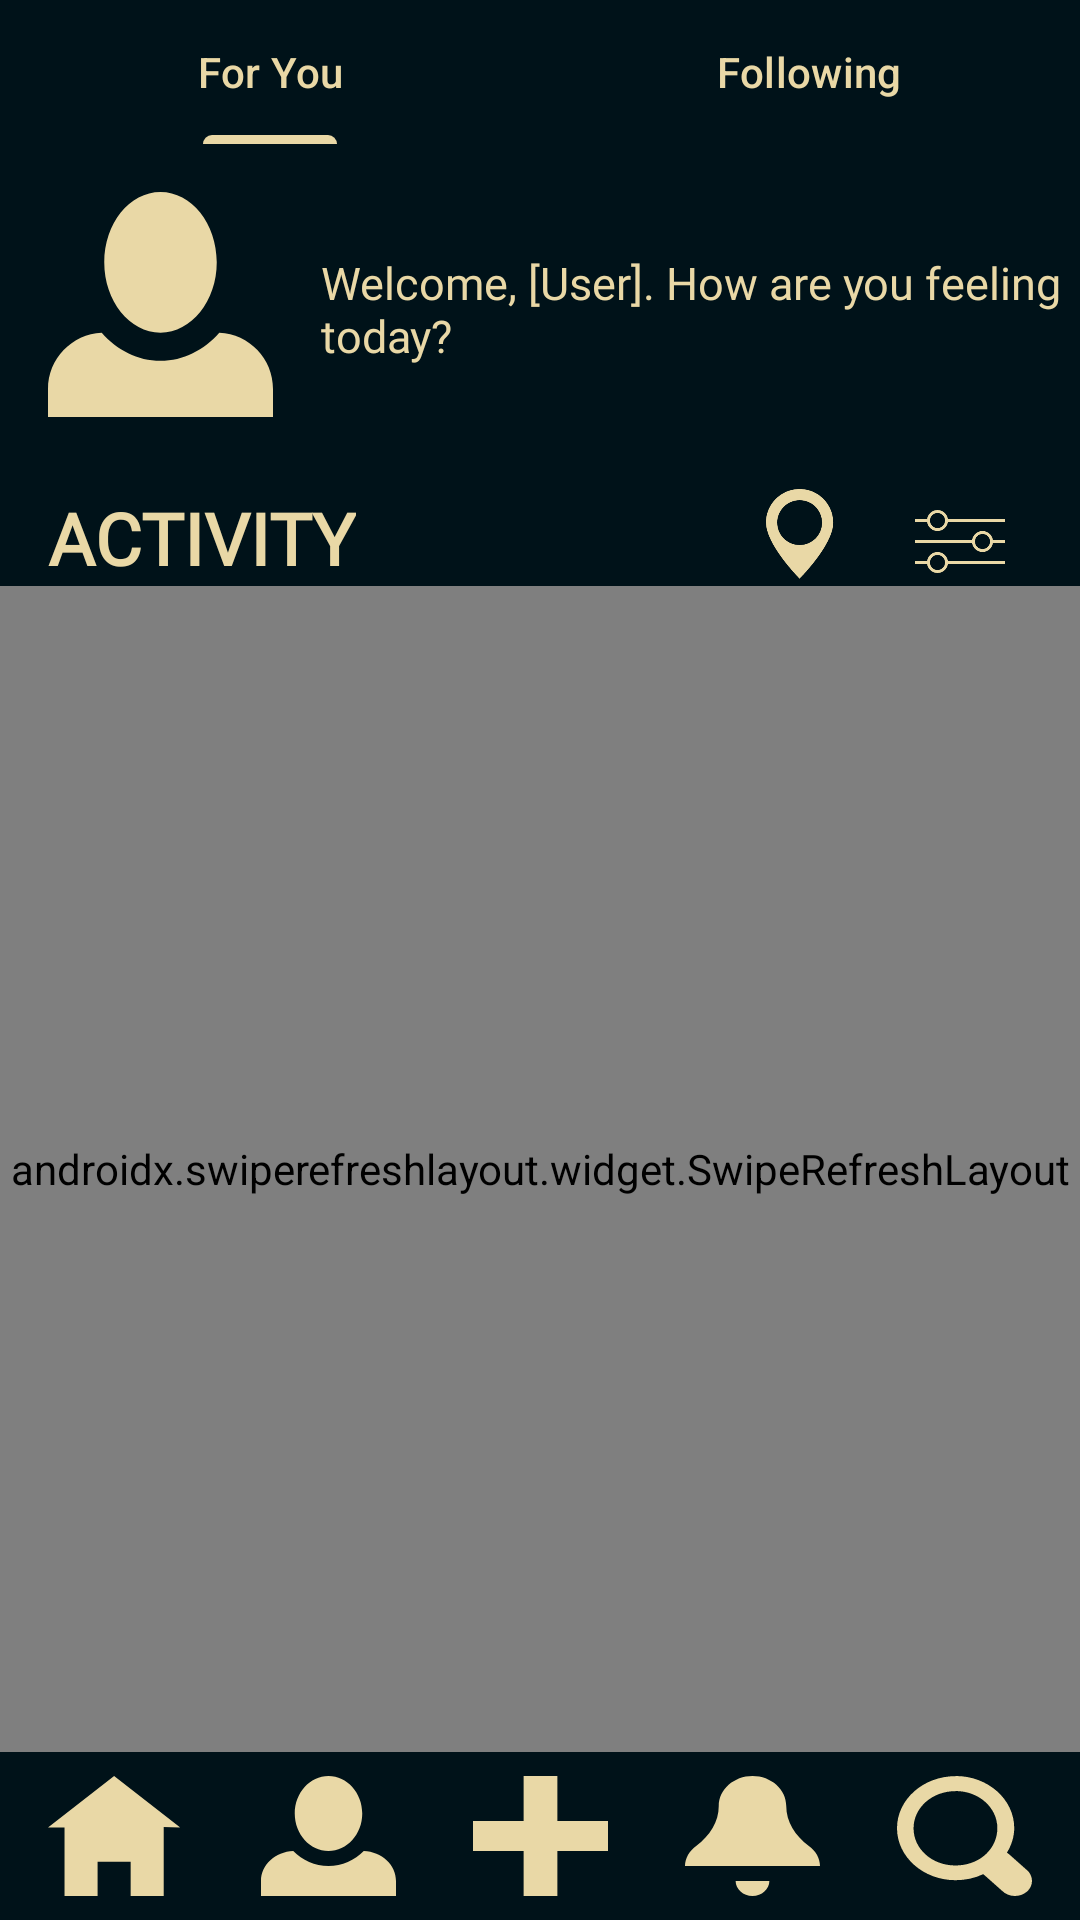

Where to tap for icons on this 1080×1920 app screen, as (x,y):
filter button: (960,541)
map button: (799,534)
